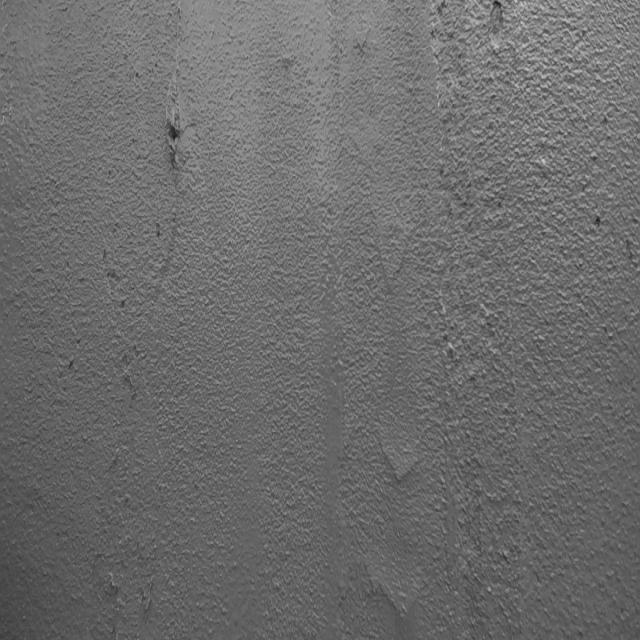trowels marks: (166, 8, 187, 195)
